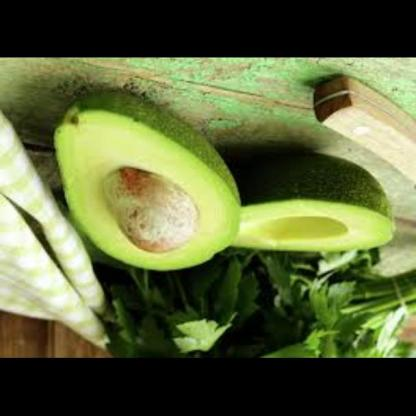avocado: (23, 61, 248, 287), (242, 165, 411, 274)
